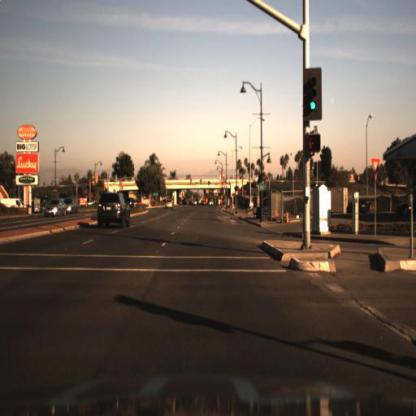car: (98, 192, 134, 237), (45, 199, 67, 220), (65, 194, 82, 218)
